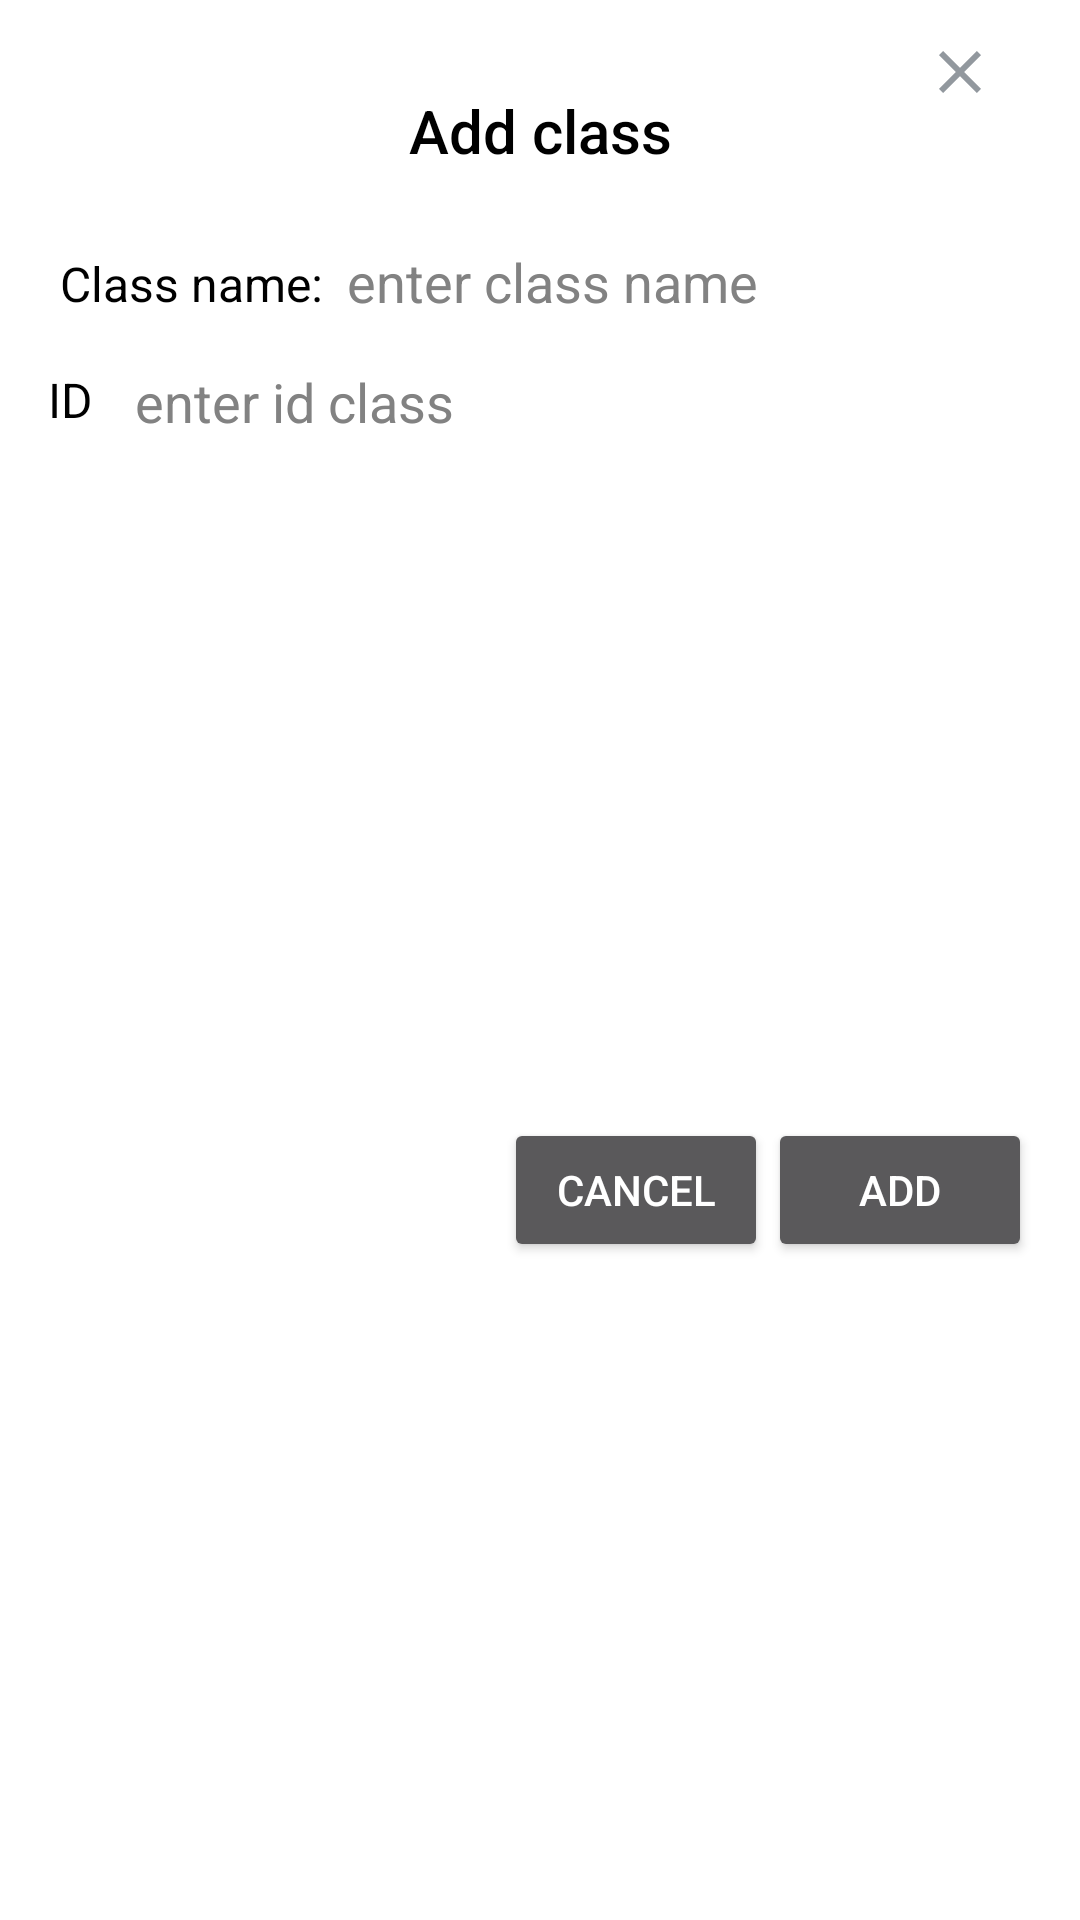

Icon click points for this 1080x1920 phone screenshot, format point (x, y):
close: point (960, 72)
